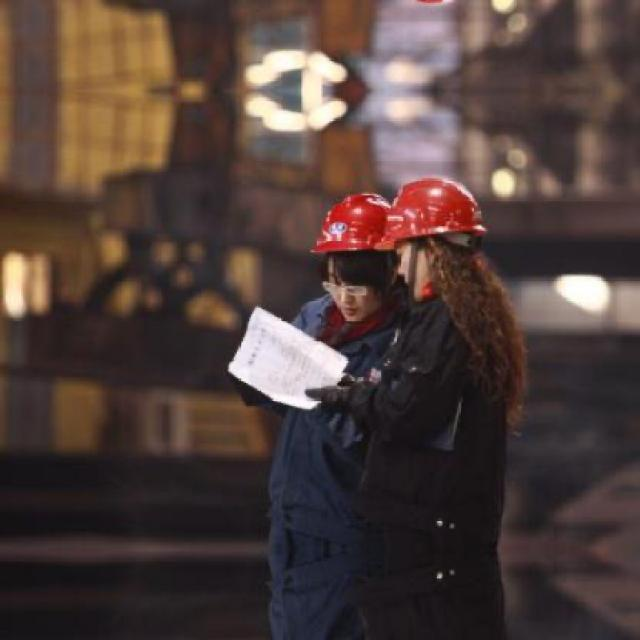helmet: (383, 170, 489, 304), (308, 186, 406, 319)
